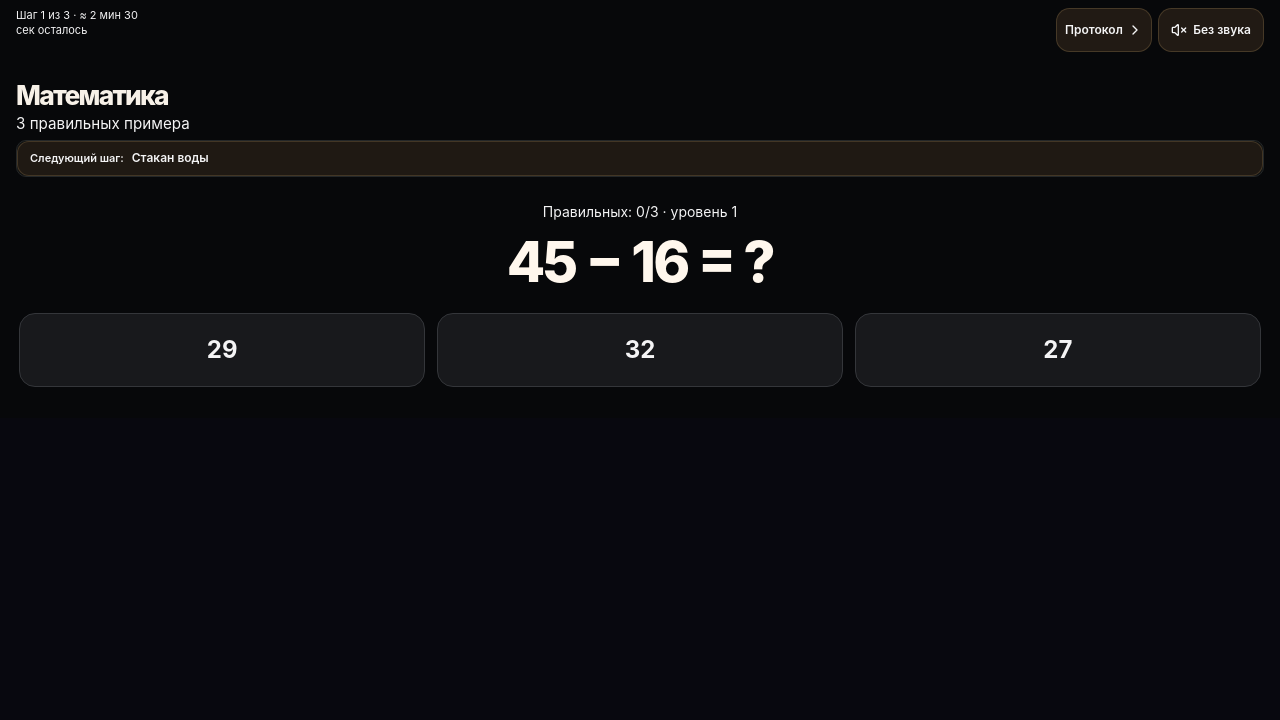
утренний вход и компактный shell › скрывает полный протокол, показывает следующий шаг и открывает состав по кнопке
Check: the element with test id "task-interaction-region" is shown, box left=16, top=184, right=1264, bottom=406
Click the button "Протокол": (1104, 30) left=1056, top=8, right=1152, bottom=52
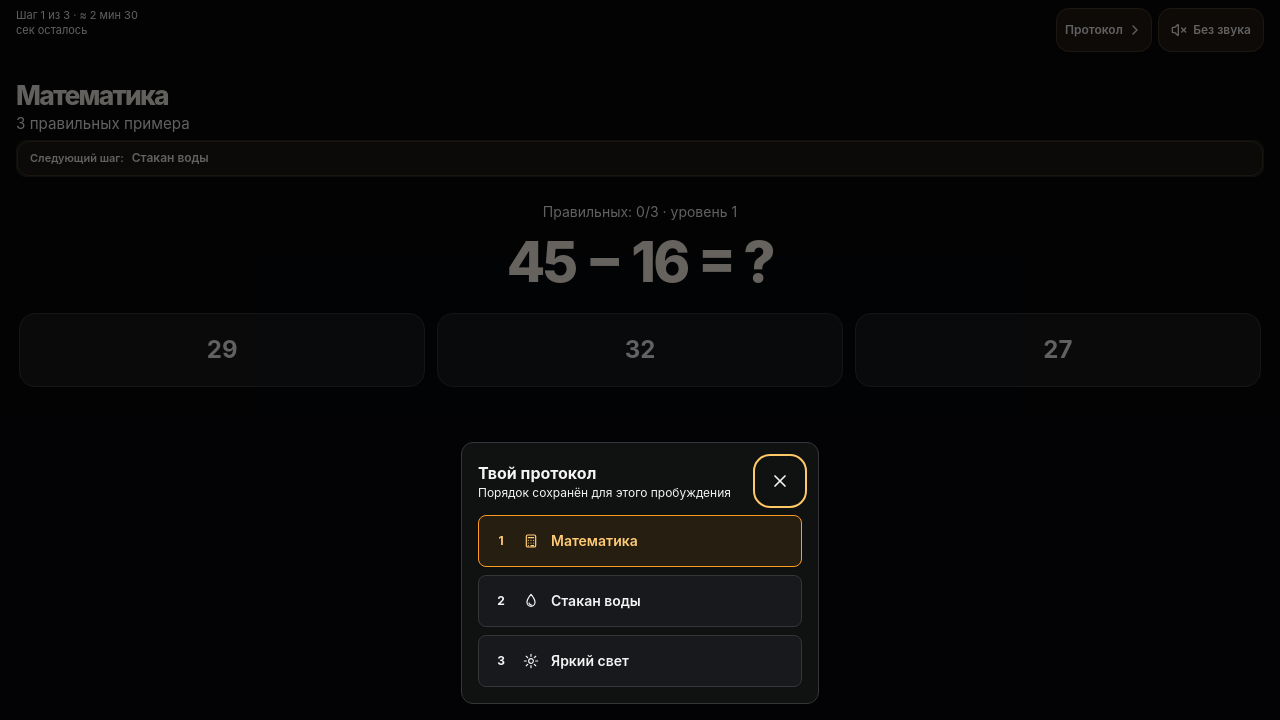
Check: the dialog is shown, box left=461, top=442, right=819, bottom=704
Check: the text "Твой протокол" is shown, box left=478, top=463, right=596, bottom=483
